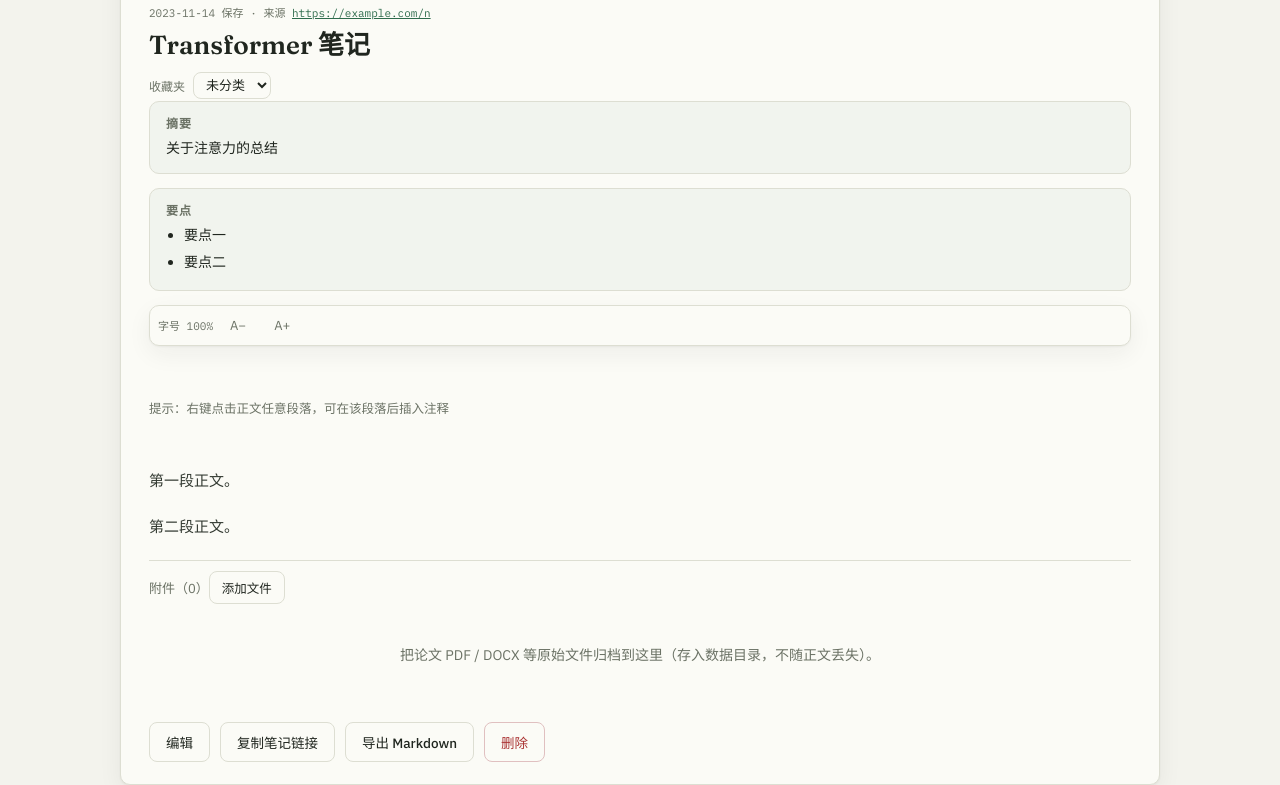
Test: NoteView › 桌面版导出走原生「另存为」，文件名用笔记标题
(page scrolled)
Expected: the heading "Transformer 笔记" is shown, [149,29,370,61]
Click the link "导出 Markdown" at (410, 742), box [345,722,474,762]
(page scrolled)
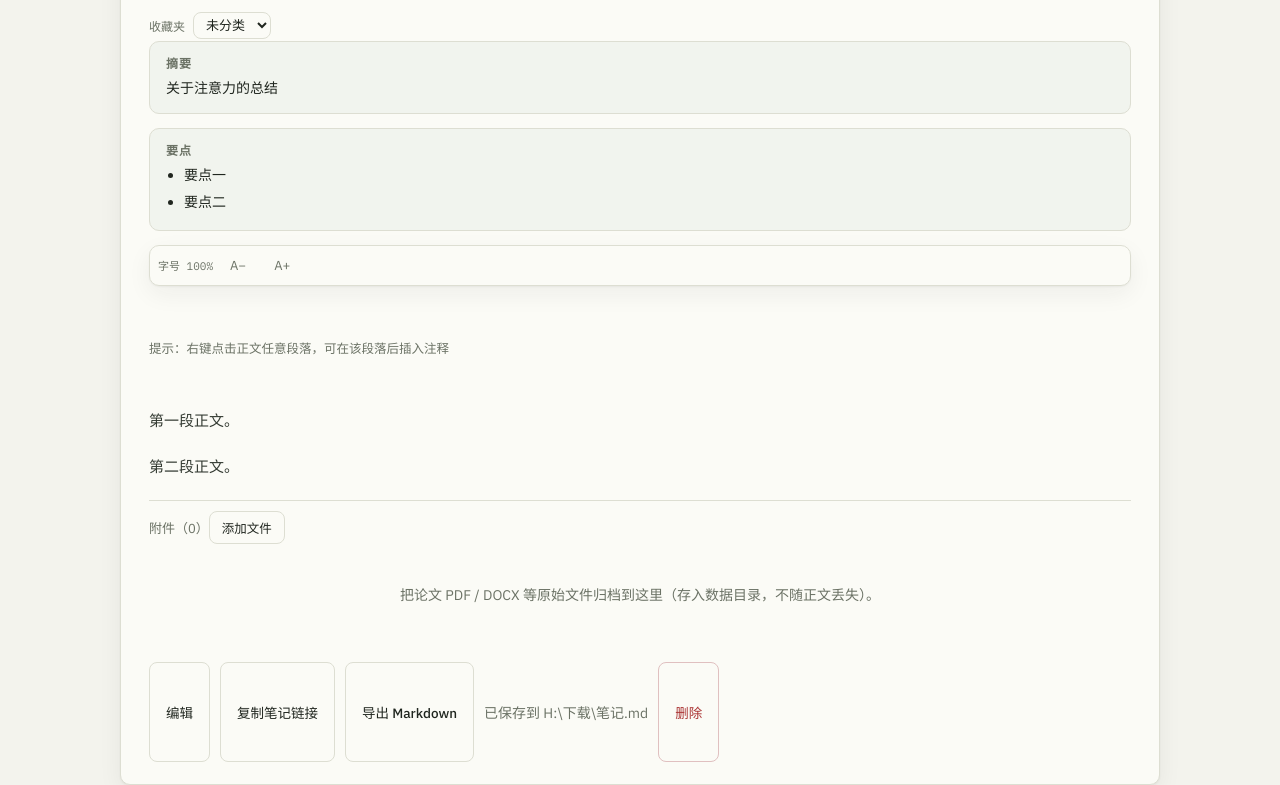
Result: the text "已保存到 H:\\下载\\笔记.md" is shown at [484,704,648,722]
